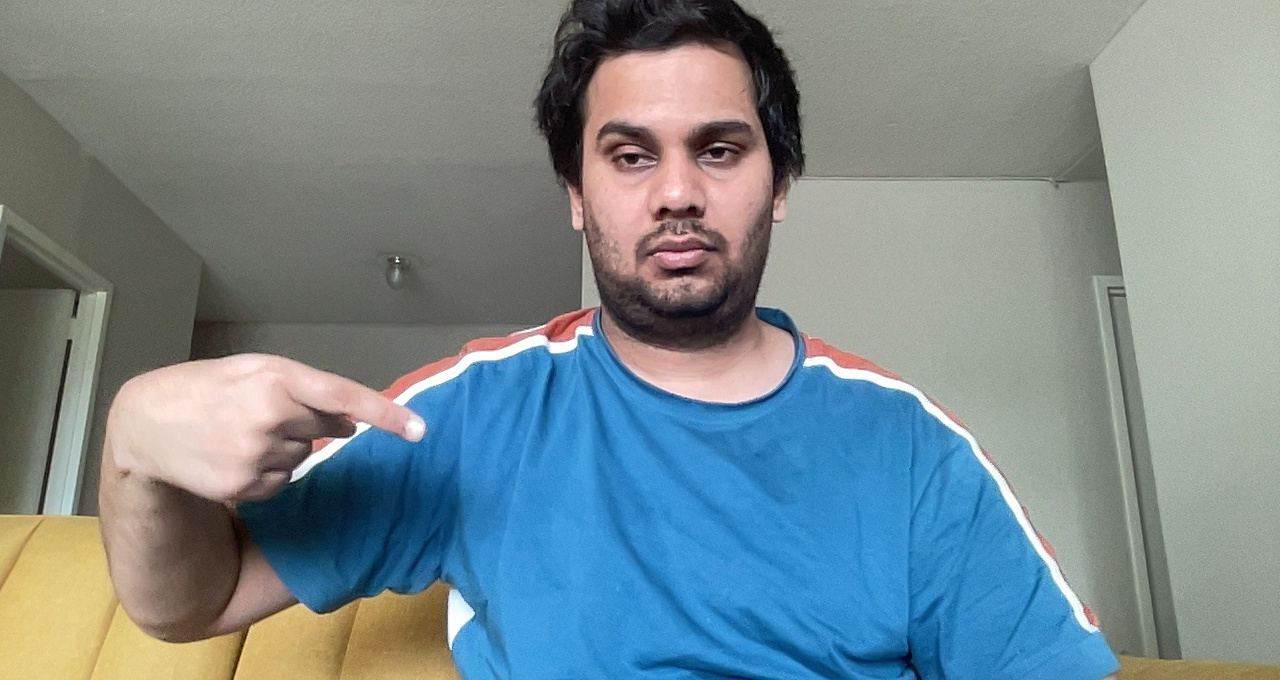fingerleft: (105, 347, 432, 510)
